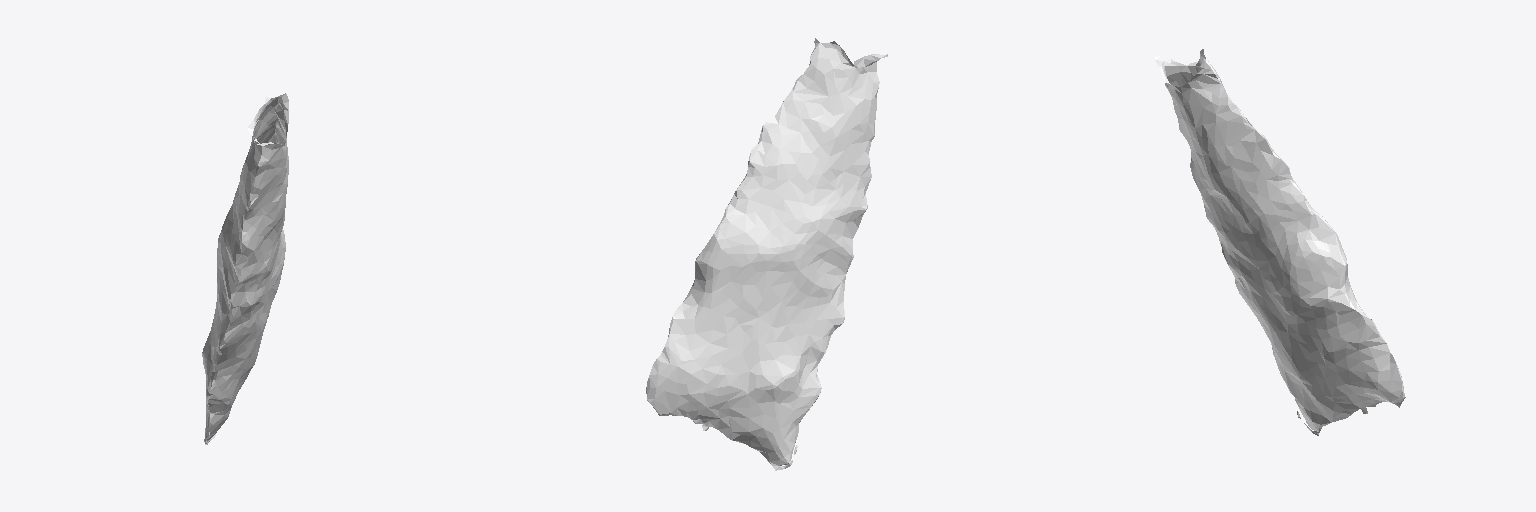
The model's file is pc339real.obj.
The picture shows the model from 3 angles: view 1: azimuth 30°, elevation 25°; view 2: azimuth 150°, elevation 25°; view 3: azimuth 270°, elevation 25°; orthographic projection.
Parts seen in each view (by area): view 1: pc339; view 2: pc339; view 3: pc339.
Part boxes in pixels (left/top/right/bottom): pc339: left=202, top=93, right=288, bottom=444; pc339: left=646, top=38, right=887, bottom=470; pc339: left=1155, top=49, right=1405, bottom=435.
Size of the model in its own units: 0.1991 by 0.6072 by 0.3567.